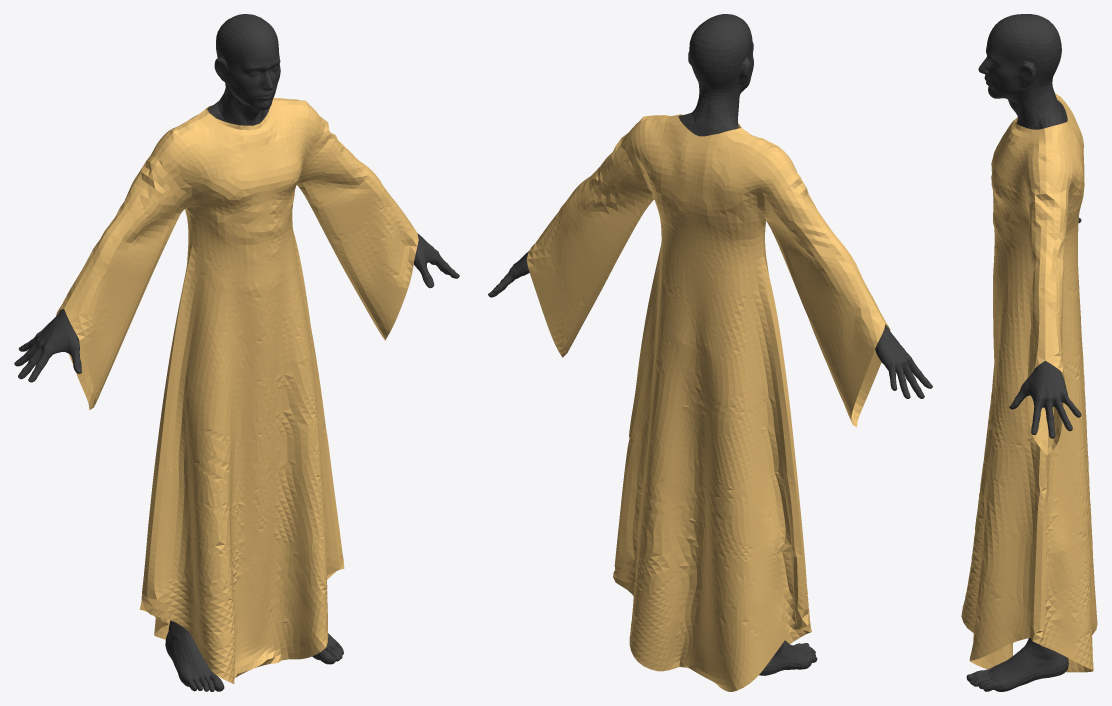
File: snuggie_alternate.obj
The picture shows the model from 3 angles, left to right: view 1: azimuth 30°, elevation 25°; view 2: azimuth 150°, elevation 25°; view 3: azimuth 270°, elevation 25°; orthographic projection.
Parts seen in each view (by area): view 1: Object001, snuggie3; view 2: Object001, snuggie3; view 3: Object001, snuggie3.
Part boxes in pixels (x1,y1,x2,y2): Object001: [56, 97, 418, 683]; snuggie3: [14, 14, 459, 691]; Object001: [526, 114, 890, 691]; snuggie3: [488, 14, 932, 675]; Object001: [961, 93, 1097, 672]; snuggie3: [966, 14, 1081, 691].
Bounding box in the file's own units: 49.05 × 69.6 × 13.38.
